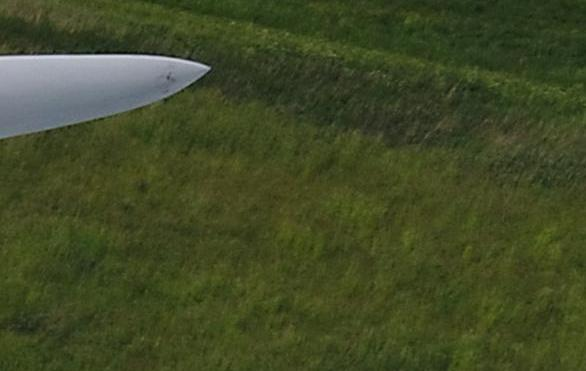damage: (156, 69, 175, 85)
